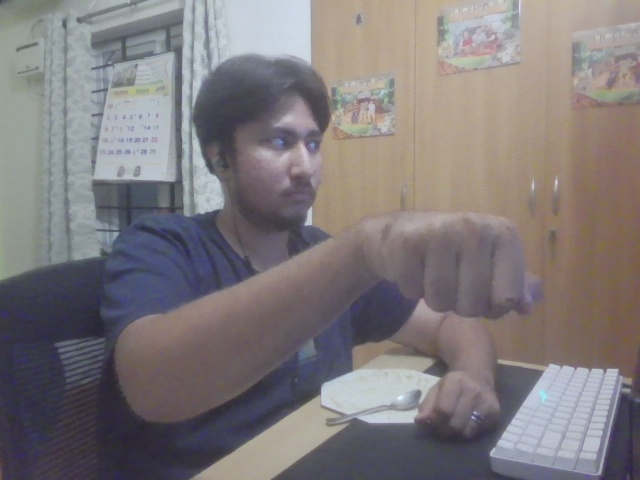yes: (364, 204, 552, 333)
